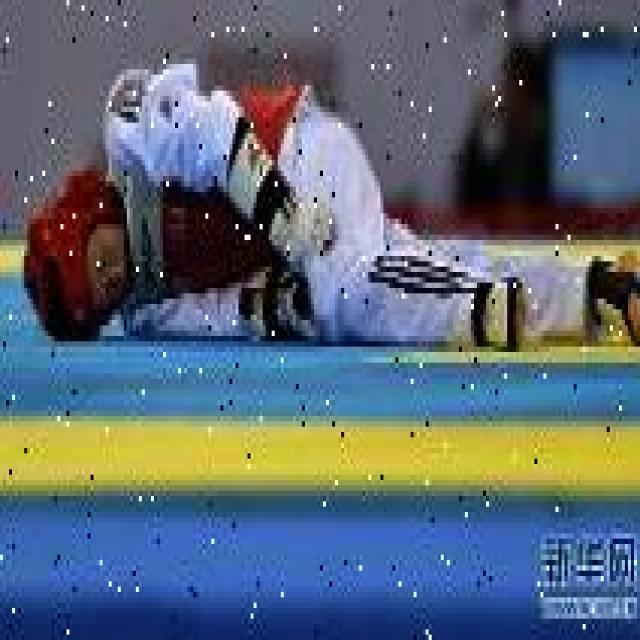fall: (18, 48, 637, 363)
